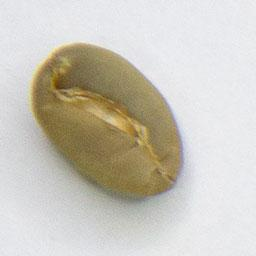premium: (26, 38, 187, 203)
